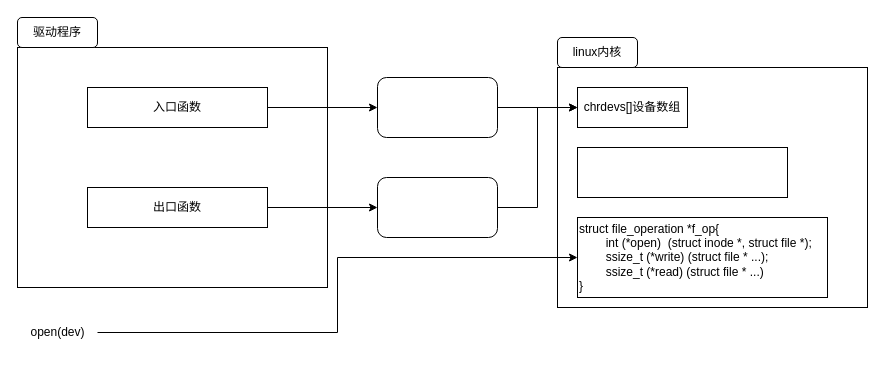
The diagram is 885 pixels wide and 365 high, and some of its shapes have lost their labels. The centre of each missing label's shape, as x and y in pixels:
register_chrdev(): point 437,107
struct file{ const struct file_operation *f_op; };: point 682,172
unregister_chrdev(): point 437,207
